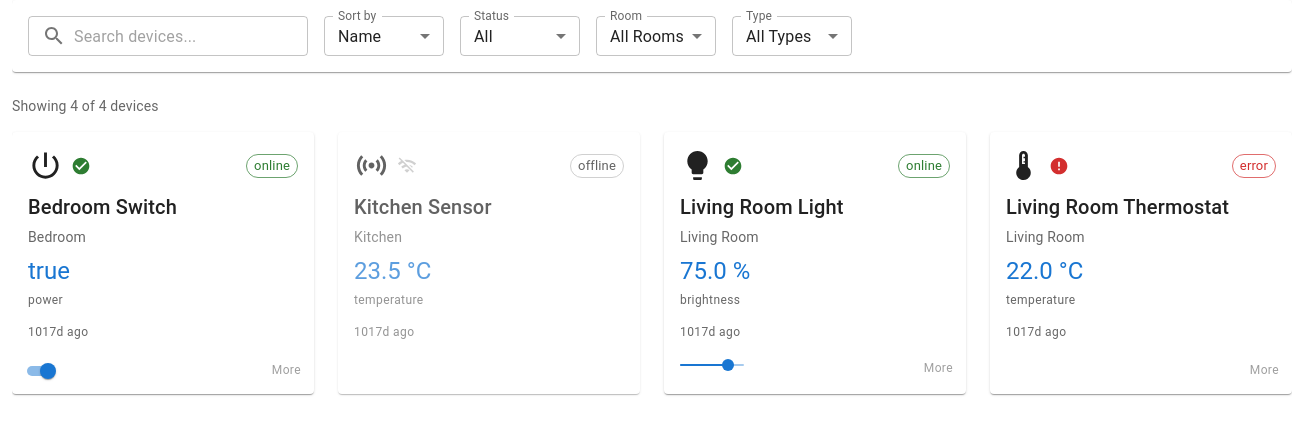
Scenario: DeviceGrid › removes individual filter chips when clicked
This screenshot has width=1292, height=426.
// Apply search filter
Type "Kitchen" into the field with placeholder "Search devices..." at coordinates (191, 36), box x1=74 y1=16 x2=308 y2=56
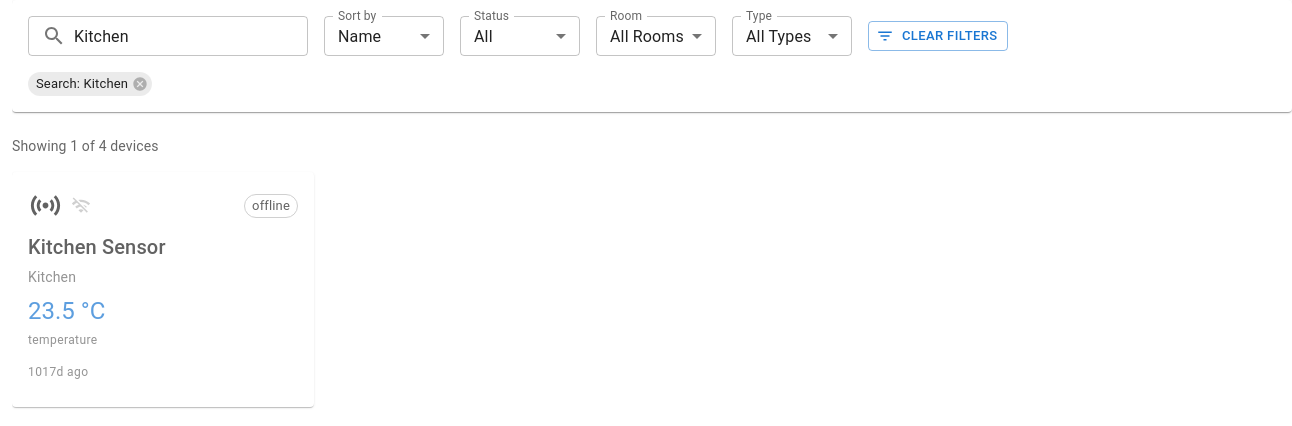
Click the icon with test id "CancelIcon" at coordinates (140, 84), box x1=132 y1=76 x2=148 y2=92
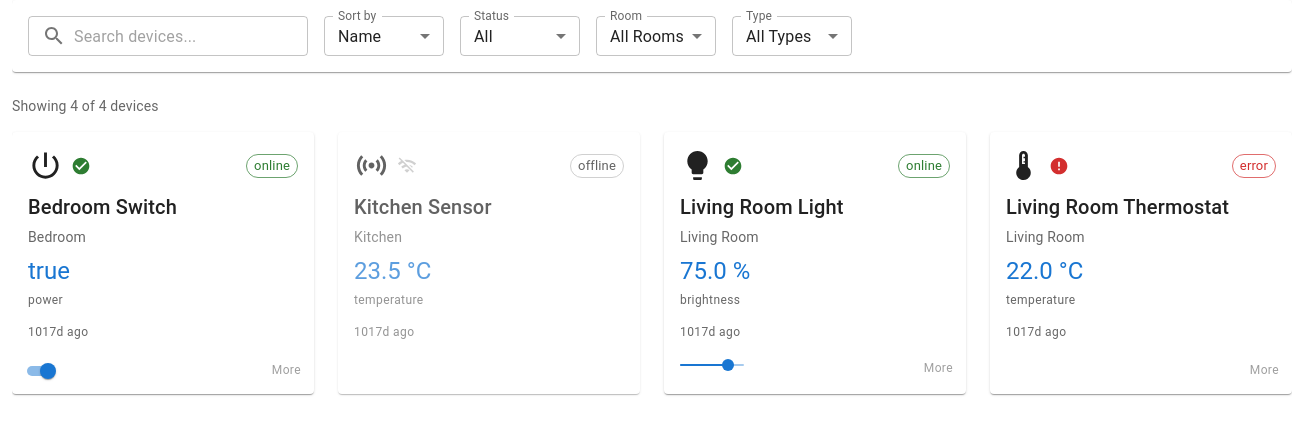
Result: the heading "Living Room Light" is shown at x1=680 y1=195 x2=844 y2=219
Result: the heading "Bedroom Switch" is shown at x1=28 y1=195 x2=177 y2=219
